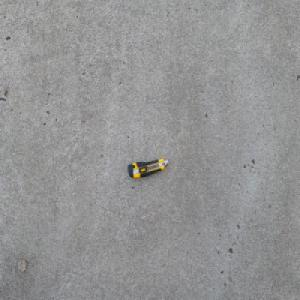Cutter: (127, 158, 169, 178)
